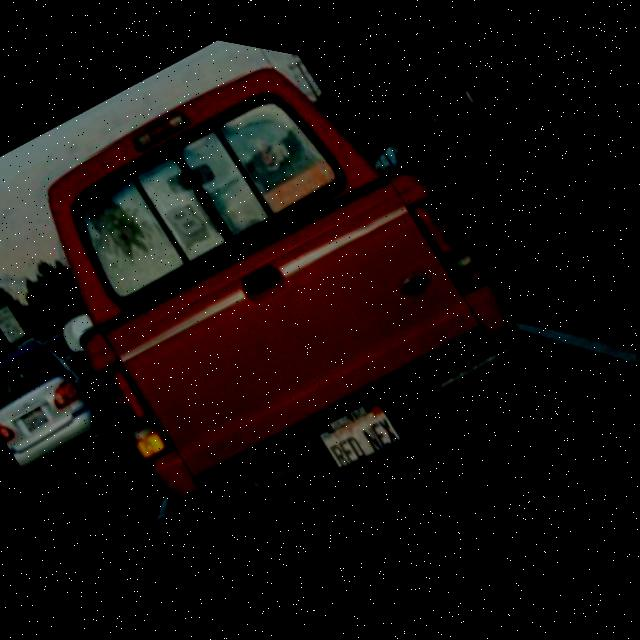license_plate: (314, 373, 404, 468), (20, 400, 50, 434)
